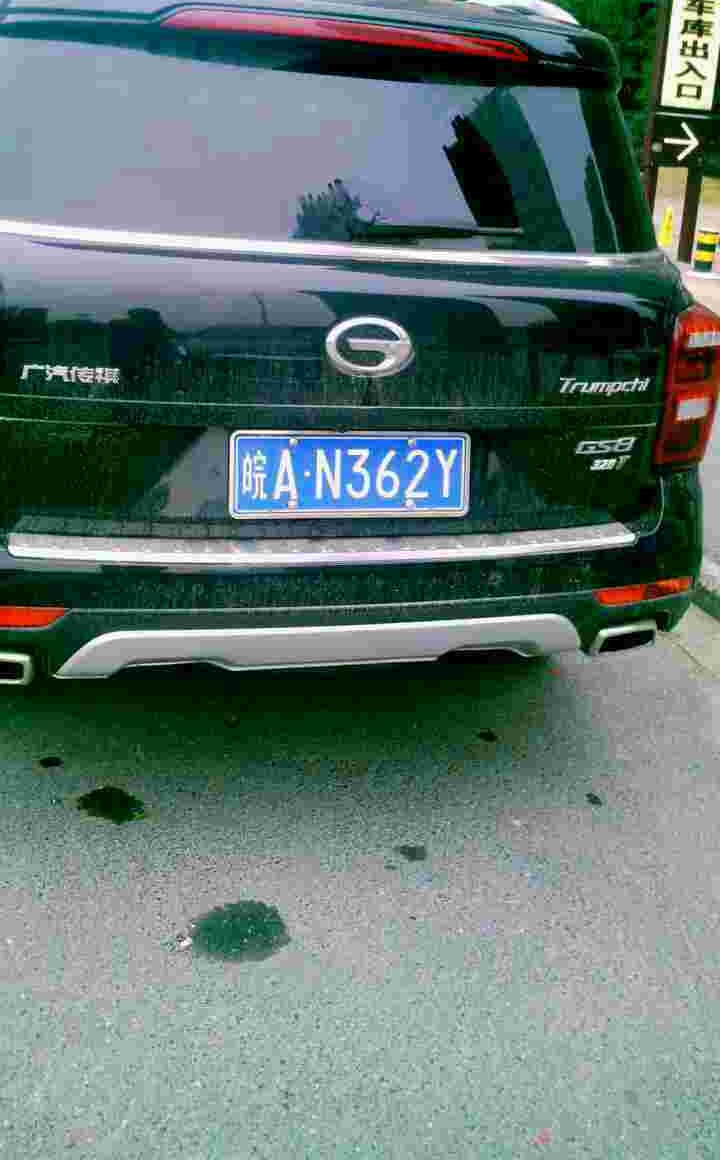license_plate: (228, 441, 466, 516)
